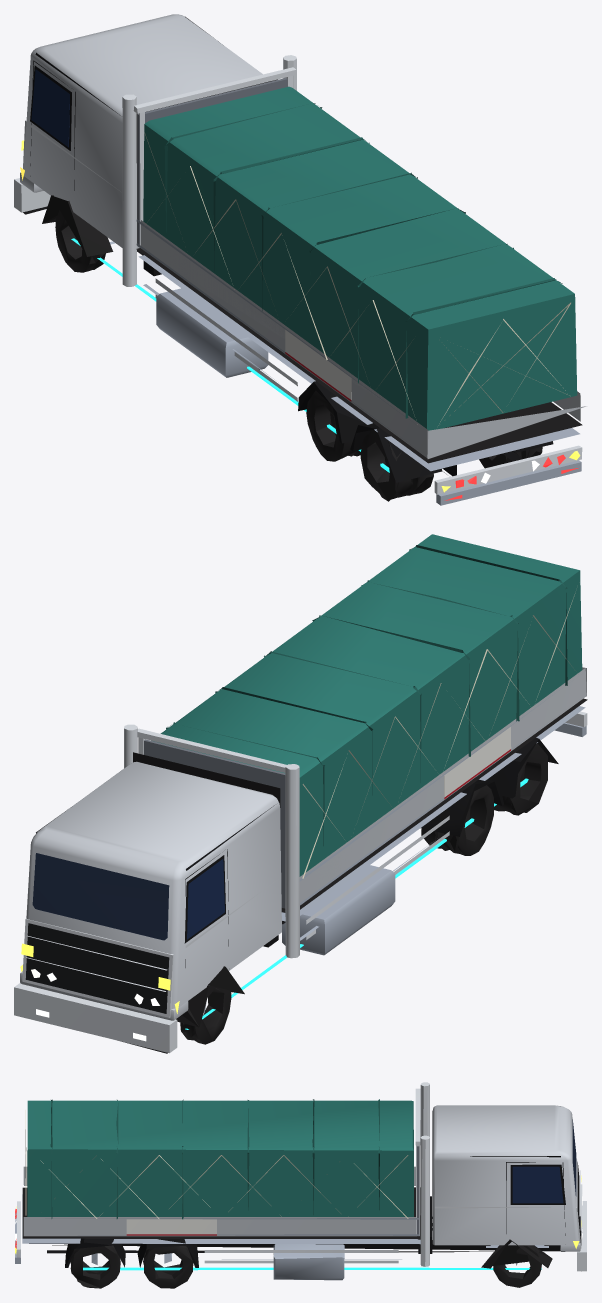
Rendered from dekotora_truck_tarp_lod2.glb.
3 views of the same model, one above another, from view 1: azimuth 30°, elevation 25°; view 2: azimuth 150°, elevation 25°; view 3: azimuth 270°, elevation 25° (orthographic). The views are drawn at different scales.
Parts seen in each view (by area): view 1: lod2_tarp, lod2_paint_white_panel, lod2_steel, lod2_chrome, lod2_box_alu, lod2_rubber_tire, lod2_plastic_trim, lod2_plastic_black, lod2_tarp_dark, lod2_glass, lod2_mesh_perf, lod2_rope (+1 smaller); view 2: lod2_tarp, lod2_paint_white_panel, lod2_chrome, lod2_vent_slots, lod2_steel, lod2_glass_wind, lod2_box_alu, lod2_rubber_tire, lod2_plastic_trim, lod2_plastic_black, lod2_mesh_perf, lod2_tarp_dark (+3 smaller); view 3: lod2_tarp, lod2_paint_white_panel, lod2_box_alu, lod2_steel, lod2_chrome, lod2_rubber_tire, lod2_plastic_black, lod2_plastic_trim, lod2_glass, lod2_band_white, lod2_tarp_dark, lod2_lamp_cyan (+1 smaller).
Boxes of the visible parts, x1,y1,x2,y2 form: lod2_tarp: (143,86,577,430); lod2_paint_white_panel: (20,14,262,248); lod2_steel: (109,219,581,505); lod2_chrome: (14,55,582,494); lod2_box_alu: (141,220,586,458); lod2_rubber_tire: (55,210,542,501); lod2_plastic_trim: (42,79,582,463); lod2_plastic_black: (23,16,553,482); lod2_tarp_dark: (164,103,562,418); lod2_glass: (31,69,69,147); lod2_mesh_perf: (137,78,287,247); lod2_rope: (144,132,570,425); lod2_tarp: (153,534,582,876); lod2_paint_white_panel: (20,761,281,1020); lod2_chrome: (14,711,587,1053); lod2_vent_slots: (25,923,169,1013); lod2_steel: (203,683,586,1013); lod2_glass_wind: (32,853,169,940); lod2_box_alu: (299,667,586,902); lod2_rubber_tire: (180,743,547,1044); lod2_plastic_trim: (133,698,587,1027); lod2_plastic_black: (36,737,558,1053); lod2_mesh_perf: (144,739,285,908); lod2_tarp_dark: (166,545,567,845); lod2_tarp: (27,1100,413,1216); lod2_paint_white_panel: (432,1105,580,1251); lod2_box_alu: (23,1166,416,1236); lod2_steel: (15,1194,548,1280); lod2_chrome: (16,1082,586,1271); lod2_rubber_tire: (70,1244,541,1288); lod2_plastic_black: (29,1156,565,1267); lod2_plastic_trim: (22,1110,552,1268); lod2_glass: (512,1166,563,1203); lod2_band_white: (126,1219,216,1234); lod2_tarp_dark: (50,1099,379,1219); lod2_lamp_cyan: (83,1267,541,1270).
Bounding box in the file's own units: 2.79 × 3.51 × 11.83.
Materials: 20 (6 with a texture image).
